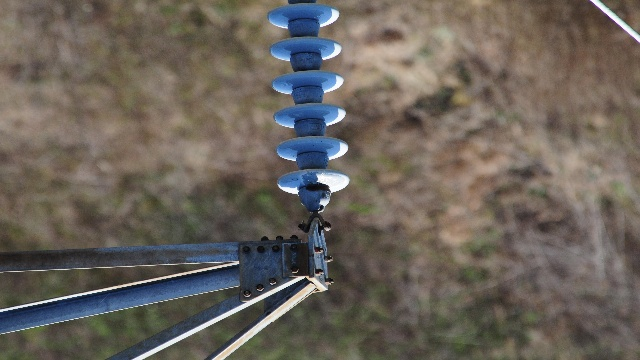insulator_unspecified: (266, 3, 350, 194)
pollution_flashover_local: (299, 169, 319, 187)
